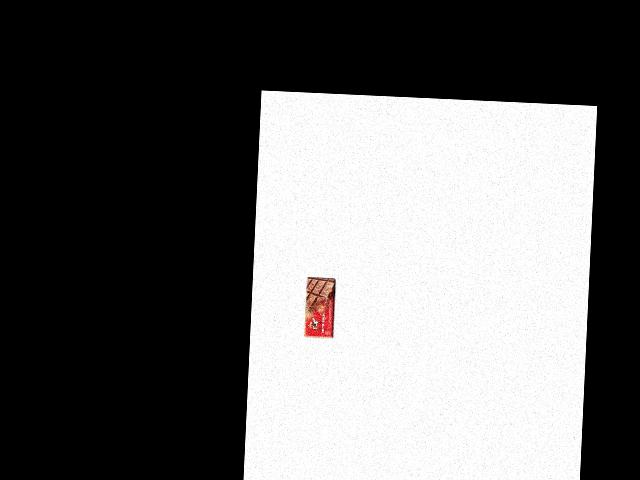chocolate: (302, 275, 337, 339)
